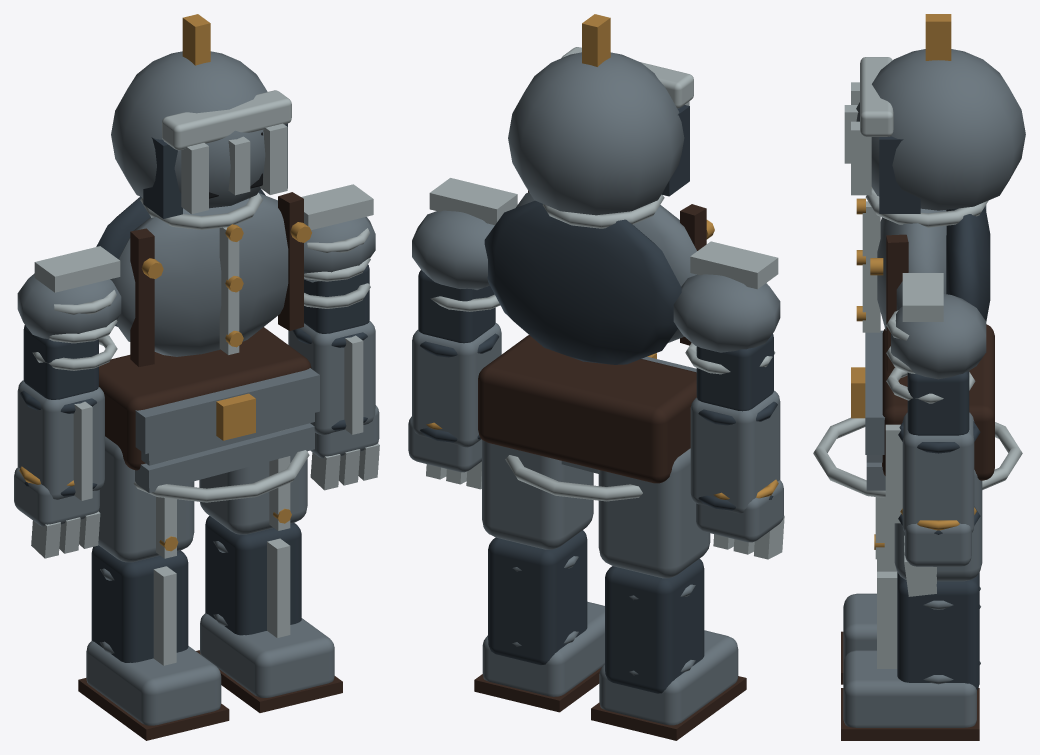
The model's file is armor-plate.glb.
3 renders of one model, left to right at view 1: azimuth 30°, elevation 25°; view 2: azimuth 150°, elevation 25°; view 3: azimuth 270°, elevation 25°, orthographic. The views are drawn at different scales.
Parts seen in each view (by area): view 1: breastplate-front, greave-shell (×2), sabaton-shell (×2), helmet-crown, vambrace-shell (×2), plate-waist-belt, cuisses-shell (×2), plate-belt-plate, pauldron-shell (×2), articulated-faulds (×2), vambrace-elbow-joint (×2), breastplate-shoulder-strap (×2) (+18 smaller); view 2: breastplate-back, plate-waist-belt, helmet-crown, greave-shell (×2), cuisses-shell (×2), vambrace-shell (×2), pauldron-shell (×2), sabaton-shell (×2), vambrace-elbow-joint (×2), pauldron-shoulder-ridge (×2), gauntlet-cuff (×2), sabaton-sole (×2) (+10 smaller); view 3: helmet-crown, sabaton-shell (×2), greave-shell, vambrace-shell, pauldron-shell, plate-waist-belt, breastplate-back, vambrace-elbow-joint, breastplate-front, fauld-hem, gauntlet-cuff, plate-belt-plate (+20 smaller).
Boxes of the visible parts, x1,y1,x2,y2 form: breastplate-front: (110,193,288,356); greave-shell (×2): (91,515,301,662); sabaton-shell (×2): (86,613,334,725); helmet-crown: (111,51,267,208); vambrace-shell (×2): (17,320,375,499); plate-waist-belt: (98,327,311,470); cuisses-shell (×2): (98,436,307,562); plate-belt-plate: (135,368,319,453); pauldron-shell (×2): (17,217,375,339); articulated-faulds (×2): (135,413,314,492); vambrace-elbow-joint (×2): (23,264,369,399); breastplate-shoulder-strap (×2): (130,192,303,366); breastplate-back: (484,200,681,364); plate-waist-belt: (478,335,696,483); helmet-crown: (508,52,684,215); greave-shell (×2): (488,530,704,693); cuisses-shell (×2): (482,440,710,578); vambrace-shell (×2): (412,322,780,513); pauldron-shell (×2): (412,210,780,352); sabaton-shell (×2): (482,601,738,725); vambrace-elbow-joint (×2): (418,270,773,411); pauldron-shoulder-ridge (×2): (429,178,778,289); gauntlet-cuff (×2): (408,416,783,542); sabaton-sole (×2): (474,667,746,740); helmet-crown: (856,49,1025,210); sabaton-shell (×2): (843,593,976,727); greave-shell: (897,572,979,690); vambrace-shell: (902,412,974,532); pauldron-shell: (891,294,986,379); plate-waist-belt: (882,324,994,480); breastplate-back: (946,206,990,321); vambrace-elbow-joint: (907,371,969,435); breastplate-front: (877,208,946,330); fauld-hem: (813,417,1022,497); gauntlet-cuff: (905,523,971,566); plate-belt-plate: (865,330,884,454).
Size of the model in its own units: 0.7945 by 1.45 by 0.414.
